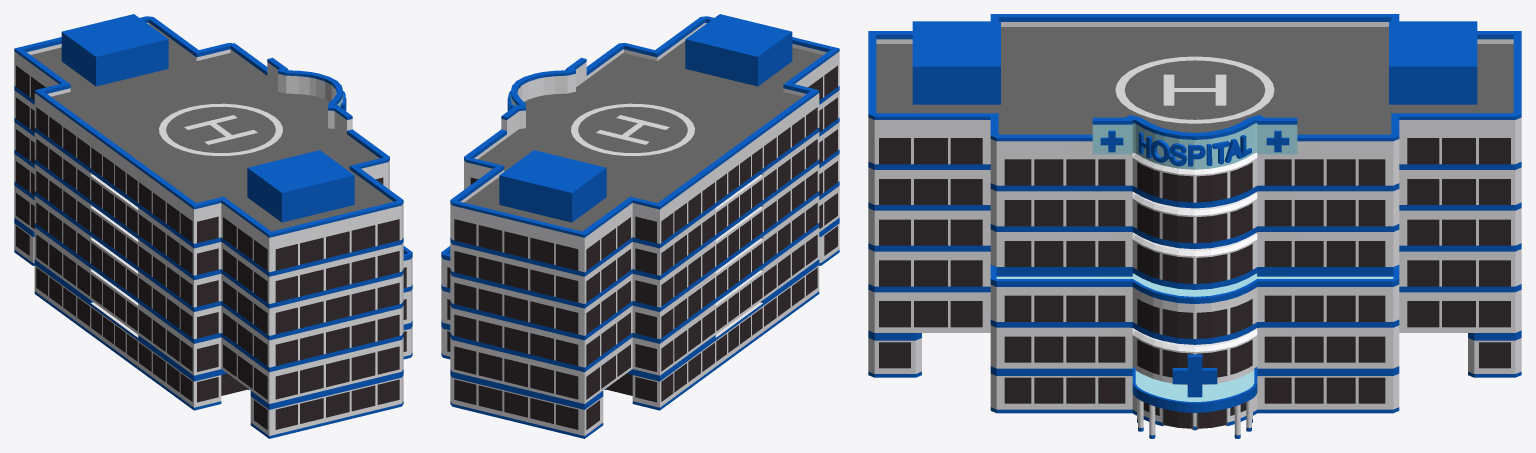
The model's file is SM_Building_Hospital.fbx.
3 views of the same model, side by side, from view 1: azimuth 30°, elevation 25°; view 2: azimuth 150°, elevation 25°; view 3: azimuth 270°, elevation 25° (orthographic). The views are drawn at different scales.
Visible parts, largest first — view 1: PublicBuilding_Hospital; view 2: PublicBuilding_Hospital; view 3: PublicBuilding_Hospital.
Part boxes in pixels (x1=…): PublicBuilding_Hospital: x1=14, y1=14, x2=412, y2=438; PublicBuilding_Hospital: x1=441, y1=14, x2=839, y2=438; PublicBuilding_Hospital: x1=868, y1=14, x2=1521, y2=438.
Bounding box in the file's own units: 1460 × 1127 × 2305.
1 material, 1 textured.
